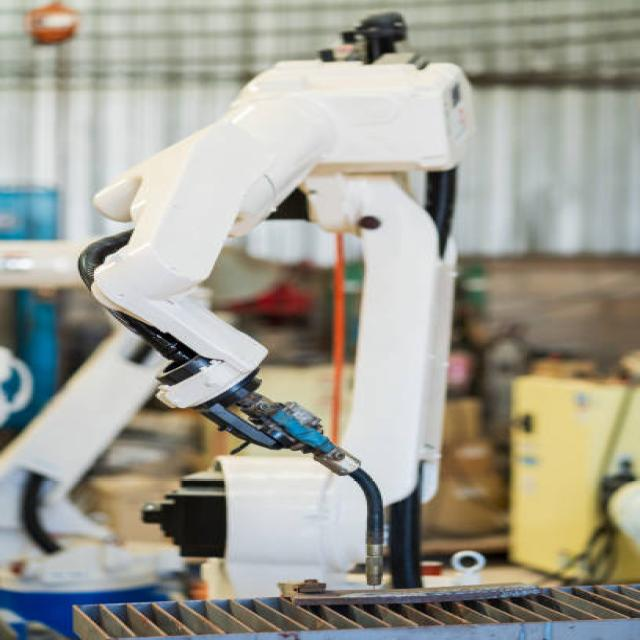Robotic-arm: (0, 43, 467, 640)
